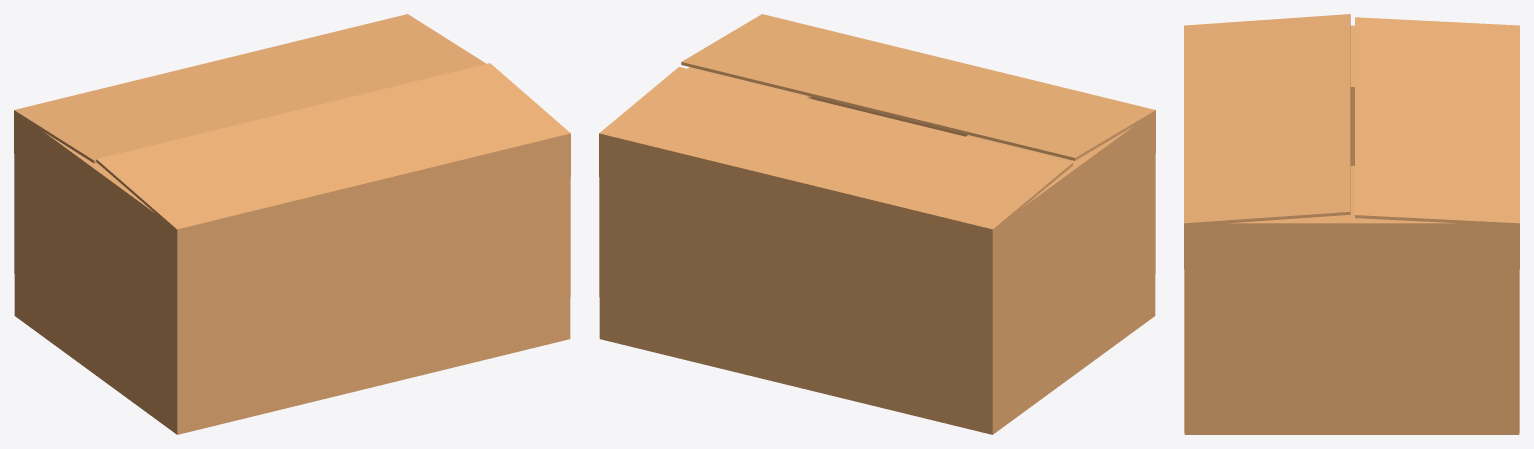
File: closed box.fbx
The picture shows the model from 3 angles, left to right: view 1: azimuth 30°, elevation 25°; view 2: azimuth 150°, elevation 25°; view 3: azimuth 270°, elevation 25°; orthographic projection. The views are drawn at different scales.
Visible parts, largest first — view 1: Plane.005; view 2: Plane.005; view 3: Plane.005.
Boxes of the visible parts, x1,y1,x2,y2 form: Plane.005: (14, 14, 570, 434); Plane.005: (599, 14, 1155, 434); Plane.005: (1184, 14, 1519, 434).
Size of the model in its own units: 32.96 by 17.35 by 23.65.
